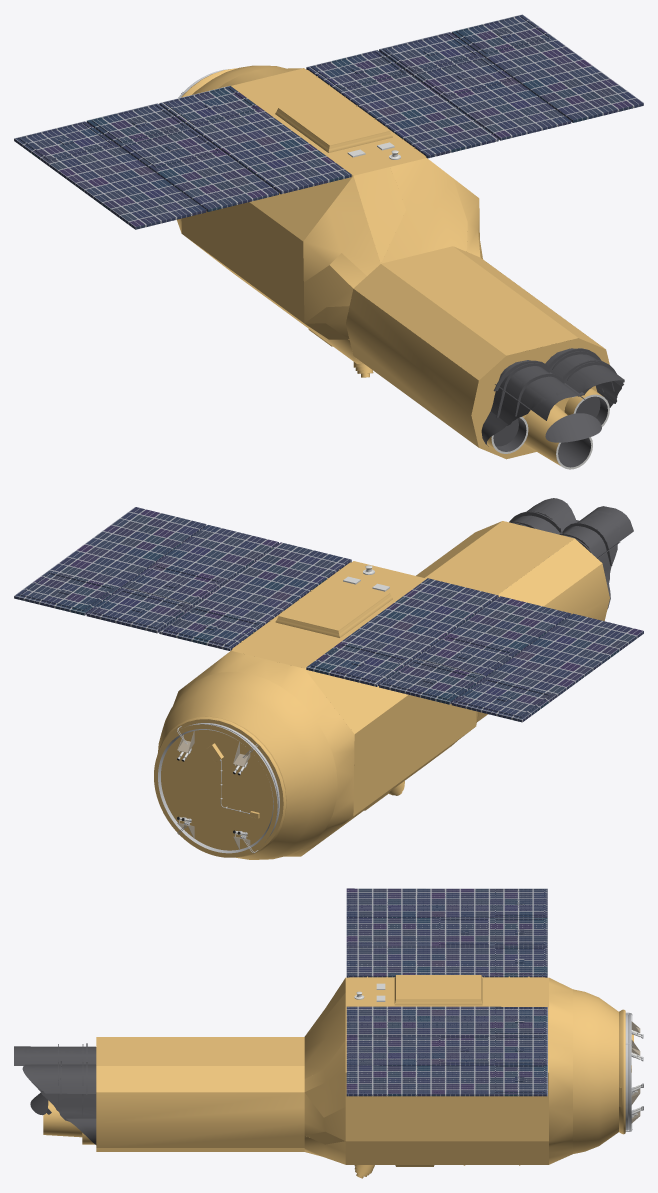
The model's file is suzaku.glb.
3 renders of one model, top to bottom at view 1: azimuth 30°, elevation 25°; view 2: azimuth 150°, elevation 25°; view 3: azimuth 270°, elevation 25°, orthographic. The views are drawn at different scales.
Visible parts, largest first — view 1: Layer_0; view 2: Layer_0; view 3: Layer_0.
Part boxes in pixels (bbox=[...]): Layer_0: bbox=[14, 14, 643, 469]; Layer_0: bbox=[14, 498, 643, 859]; Layer_0: bbox=[14, 888, 643, 1178].
Bounding box in the file's own units: 5.22 × 2.16 × 6.75.
7 materials, 1 textured.
